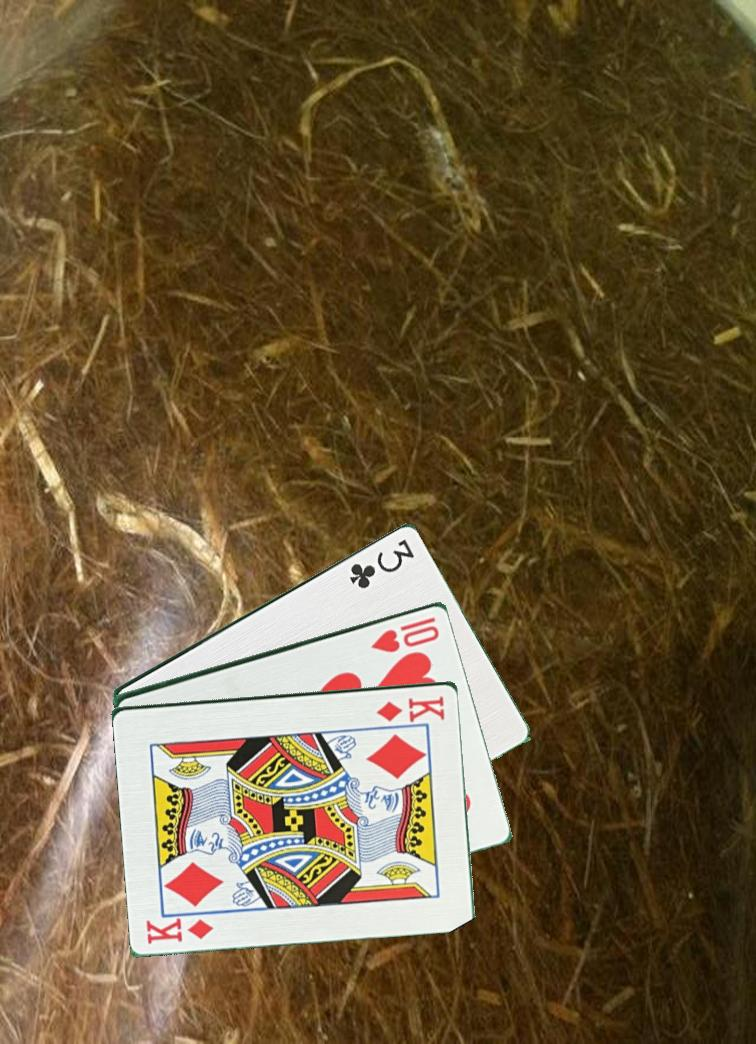3c: (346, 534, 418, 597)
kd: (373, 691, 448, 723), (143, 915, 217, 946)
th: (367, 612, 443, 655)
